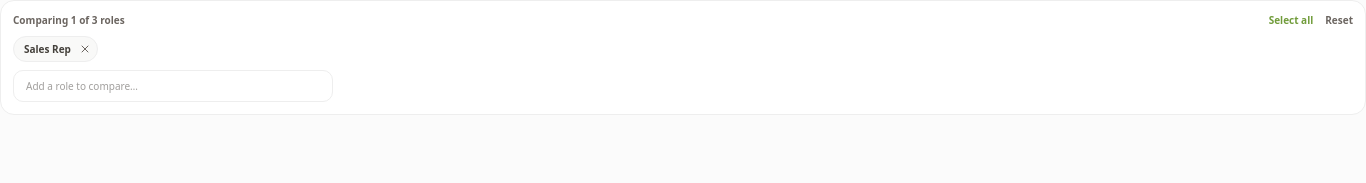
RoleColumnPicker › only offers unselected roles in the search results
Click the field named "Search roles to add to the comparison": (173, 86) [13,70,333,102]
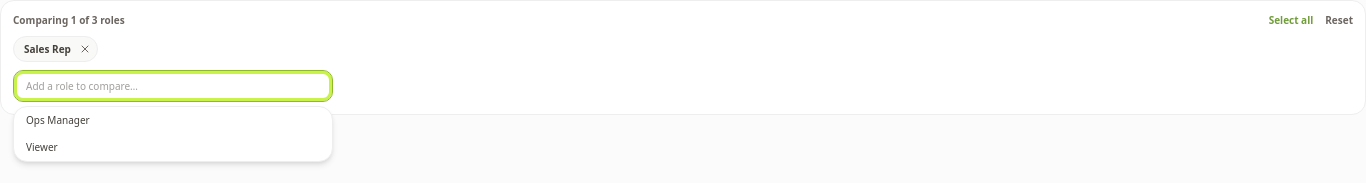
Now the button "Ops Manager" is shown, box [14,107,332,134]
